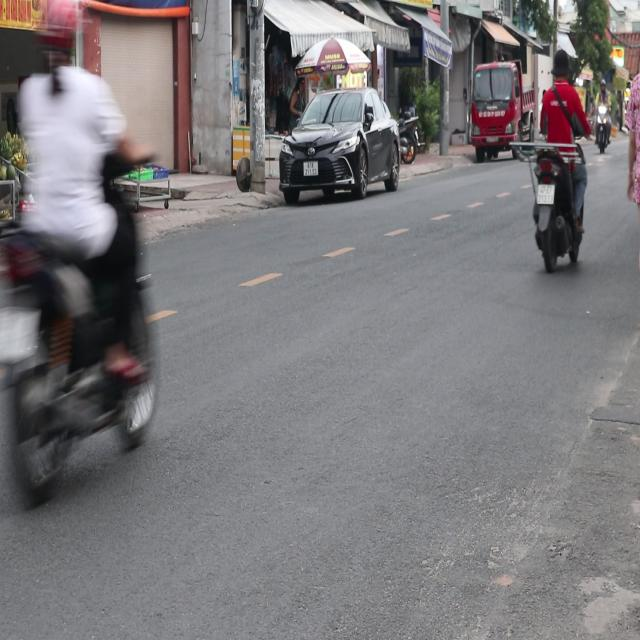licenseplate: (0, 0, 164, 510), (528, 43, 588, 270)
motorcyclist: (550, 46, 571, 83)
nohelmet: (536, 183, 554, 203)
